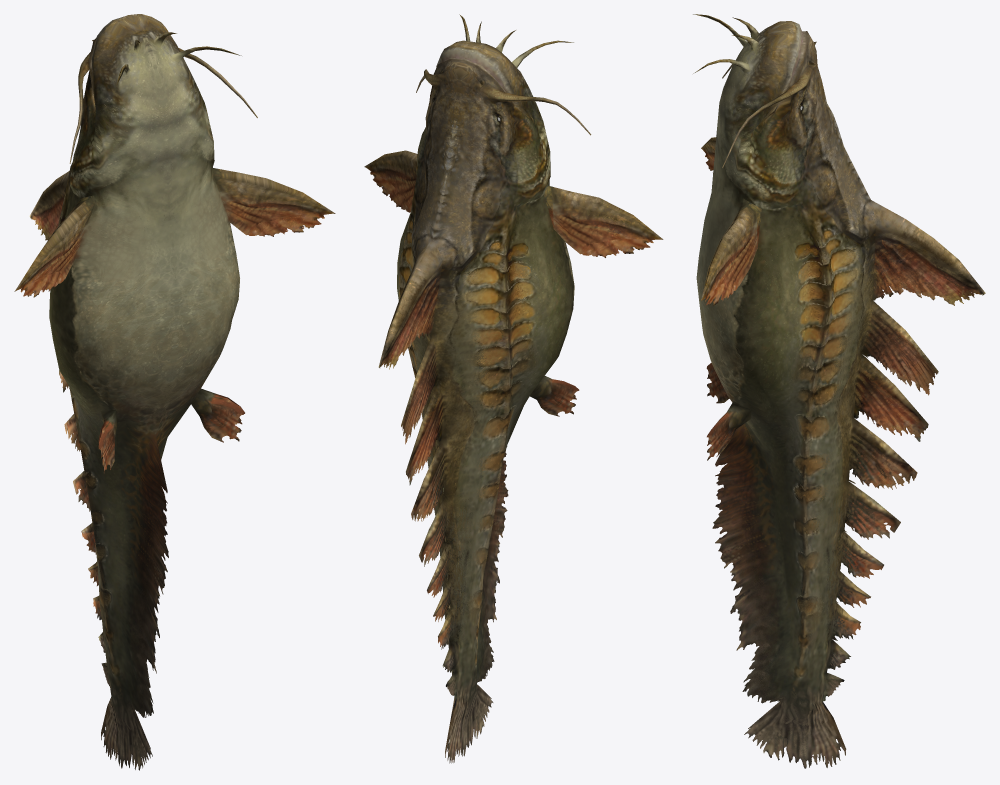
Rendered from ems029_00.obj.
The picture shows the model from 3 angles, left to right: view 1: azimuth 30°, elevation 25°; view 2: azimuth 150°, elevation 25°; view 3: azimuth 270°, elevation 25°; orthographic projection. The views are drawn at different scales.
Parts seen in each view (by area): view 1: ems029_00_000_LOD_1; view 2: ems029_00_000_LOD_1; view 3: ems029_00_000_LOD_1.
Boxes of the visible parts, x1,y1,x2,y2 form: ems029_00_000_LOD_1: (14, 14, 335, 770); ems029_00_000_LOD_1: (364, 14, 663, 763); ems029_00_000_LOD_1: (693, 14, 985, 768).
Bounding box in the file's own units: 242 × 547 × 195.
